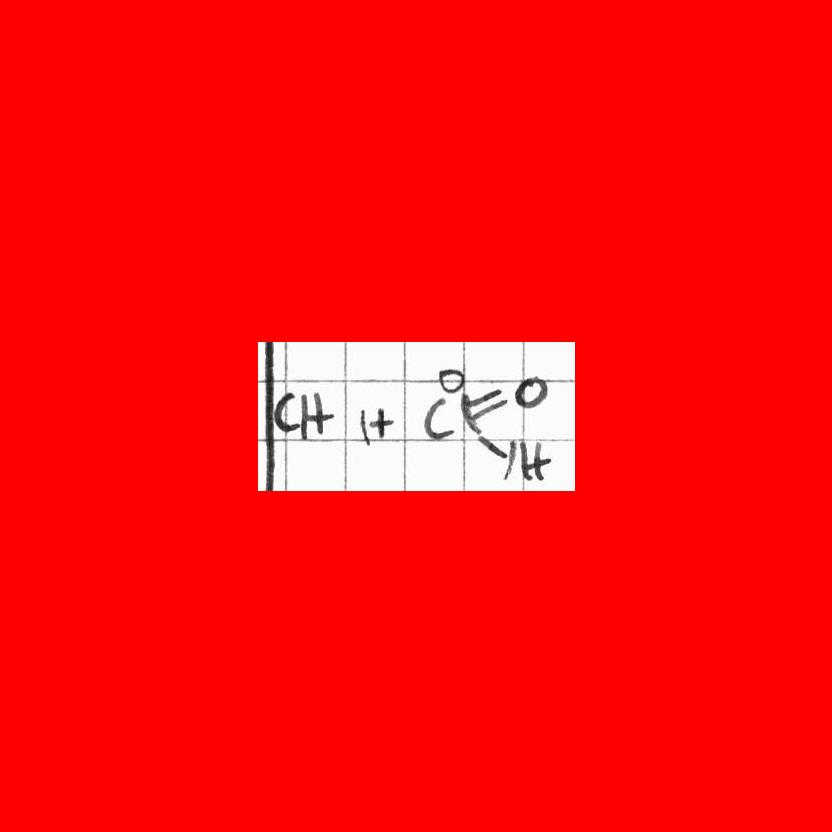Char: (514, 437, 554, 485), (299, 387, 332, 441), (258, 366, 273, 477), (423, 396, 455, 441), (512, 374, 548, 410), (274, 388, 297, 438), (467, 383, 504, 408), (437, 366, 466, 395), (369, 405, 394, 437), (477, 434, 507, 459), (357, 402, 368, 448)
